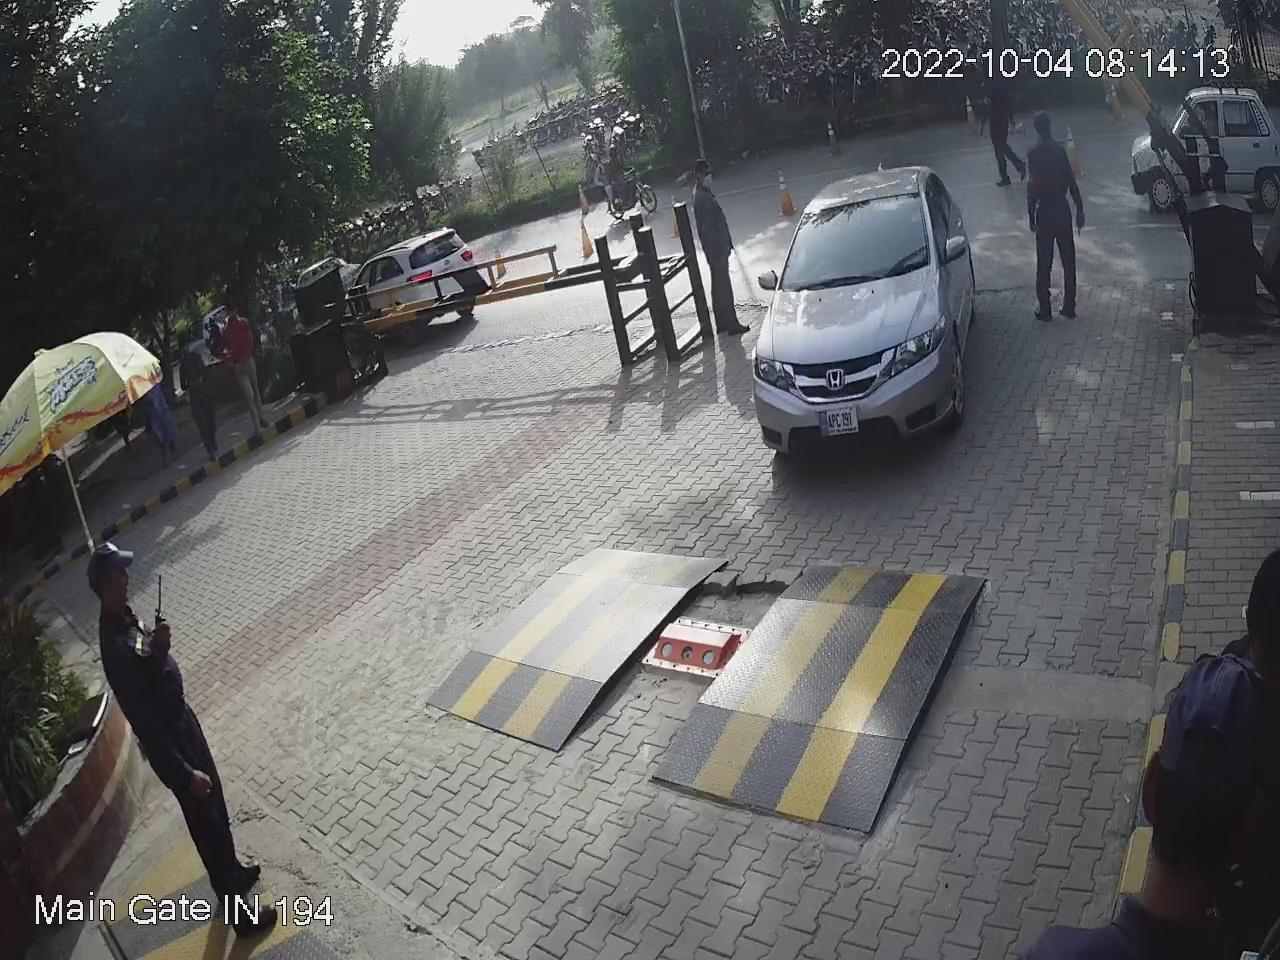windshield: (780, 172, 935, 295)
